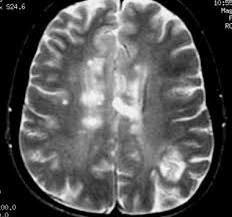Normal_Brain: (13, 3, 232, 217)
